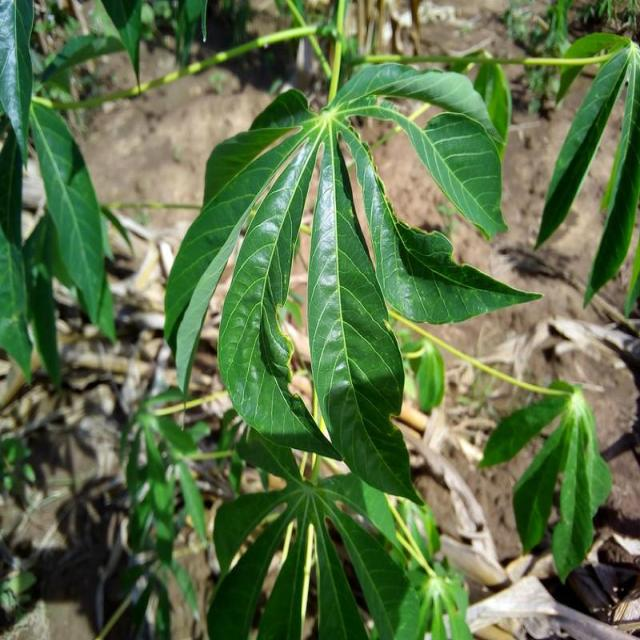cassava leaf: (162, 59, 542, 504), (305, 122, 425, 504)
